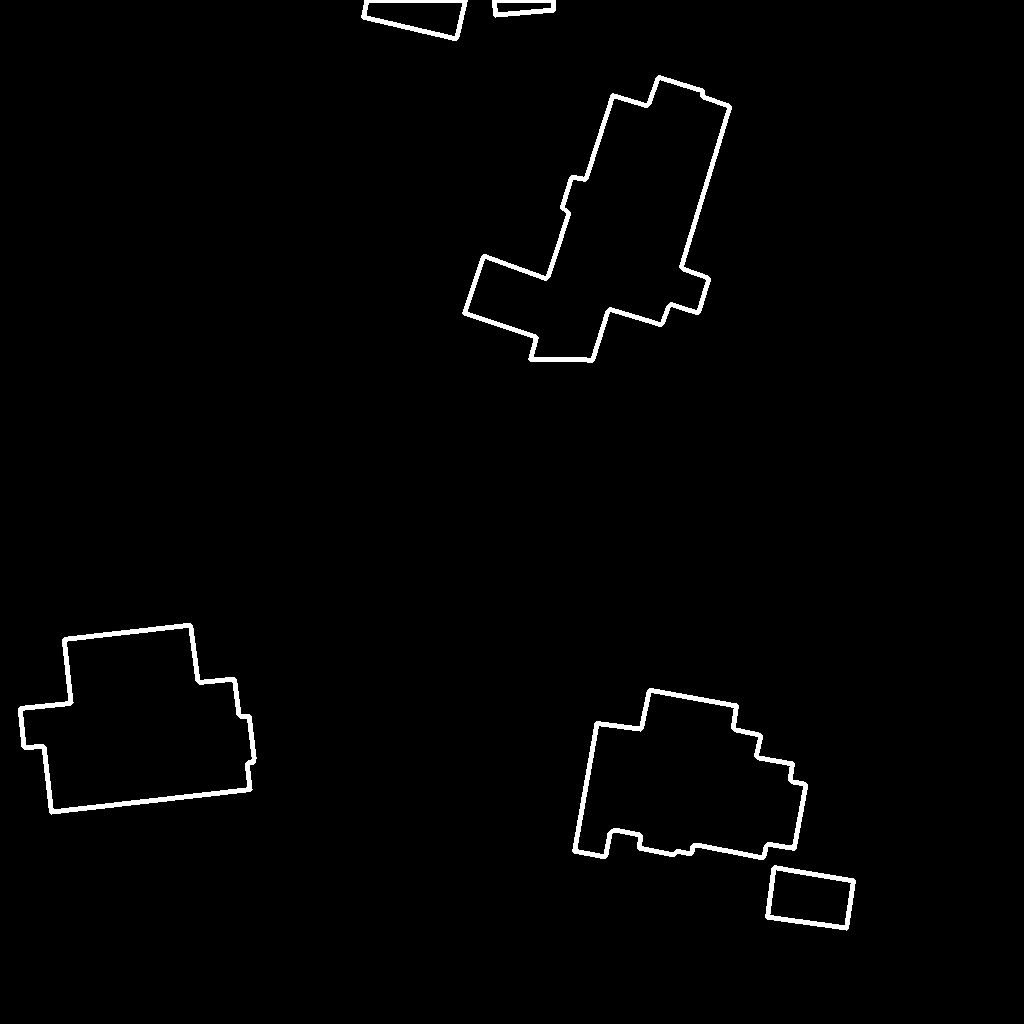building: (464, 77, 731, 361), (20, 625, 255, 813), (574, 690, 807, 859), (363, 0, 555, 40), (767, 867, 855, 929)
